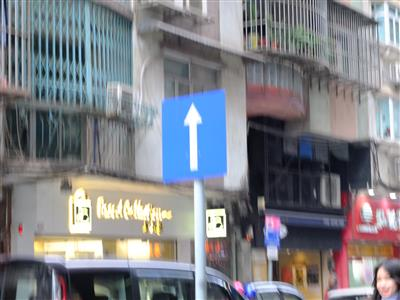oneway: (149, 82, 235, 193)
